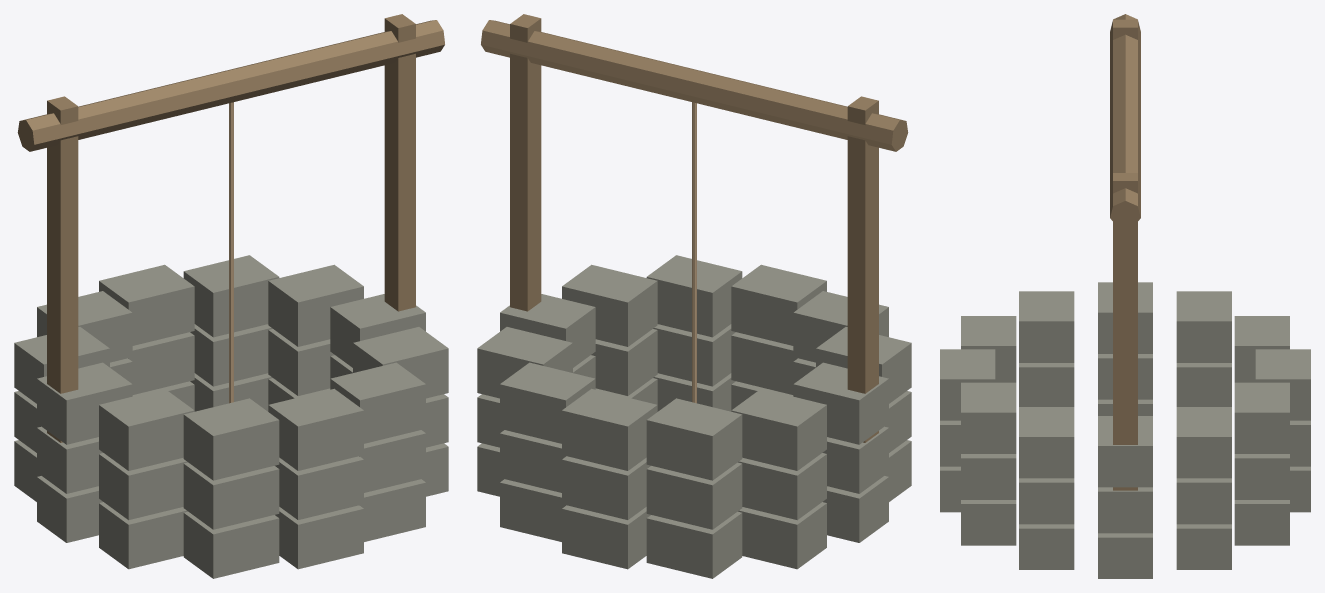
Rendered from well.glb.
3 views of the same model, side by side, from view 1: azimuth 30°, elevation 25°; view 2: azimuth 150°, elevation 25°; view 3: azimuth 270°, elevation 25° (orthographic). The views are drawn at different scales.
Visible parts, largest first — view 1: well; view 2: well; view 3: well.
Part boxes in pixels (x1,y1,x2,y2): well: (14,14,448,578); well: (477,14,911,578); well: (940,14,1310,578).
Bounding box in the file's own units: 2.8 × 2.77 × 2.35.
